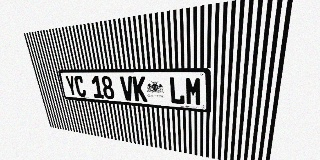1: (90, 76, 104, 98)
8: (101, 76, 115, 99)
C: (73, 76, 87, 97)
K: (132, 76, 148, 102)
L: (169, 77, 185, 105)
M: (185, 77, 202, 106)
V: (120, 76, 135, 101)
Y: (65, 76, 78, 96)
